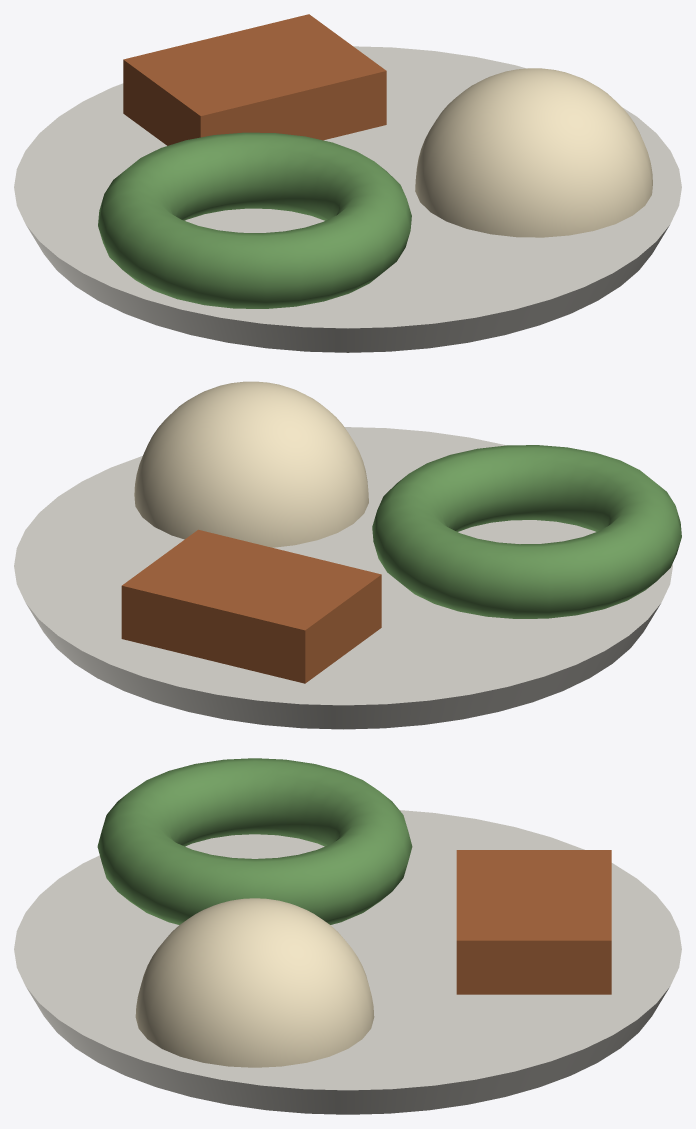
3 renders of one model, top to bottom at view 1: azimuth 30°, elevation 25°; view 2: azimuth 150°, elevation 25°; view 3: azimuth 270°, elevation 25°, orthographic.
Parts seen in each view (by area): view 1: plate, part_salada, part_carboidrato, part_proteina; view 2: plate, part_salada, part_carboidrato, part_proteina; view 3: plate, part_salada, part_carboidrato, part_proteina.
Part boxes in pixels (<box>): plate: <box>14,46,681,352</box>; part_salada: <box>98,132,411,308</box>; part_carboidrato: <box>415,68,652,237</box>; part_proteina: <box>123,14,386,145</box>; plate: <box>14,427,672,729</box>; part_salada: <box>372,445,681,618</box>; part_carboidrato: <box>134,381,368,547</box>; part_proteina: <box>121,529,381,683</box>; plate: <box>14,810,681,1114</box>; part_salada: <box>97,758,412,924</box>; part_carboidrato: <box>135,898,374,1067</box>; part_proteina: <box>456,850,611,994</box>.
Bounding box in the file's own units: 0.28 × 0.065 × 0.28.
